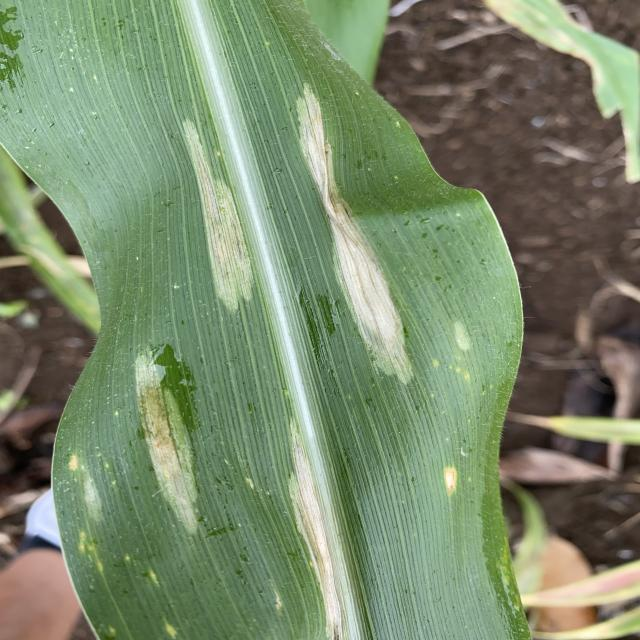Corn_Leaf_Blight: (54, 0, 516, 640)
